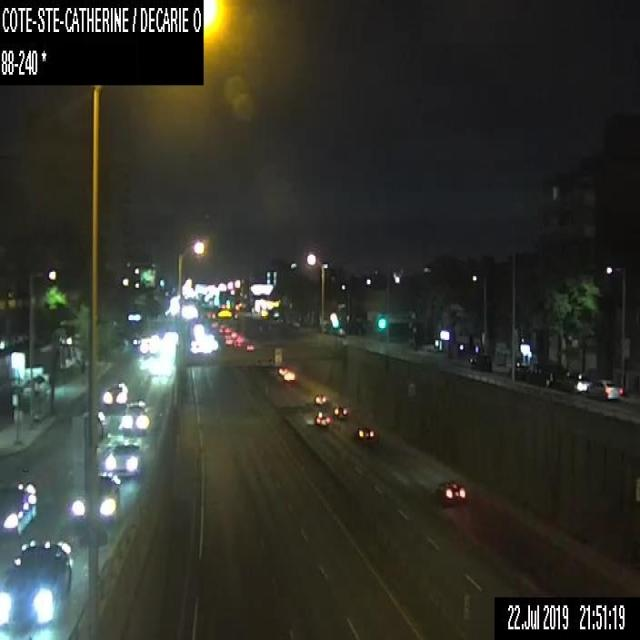vehicle: (0, 543, 74, 625), (72, 472, 120, 526), (0, 484, 36, 534), (101, 442, 140, 474), (120, 400, 149, 432), (434, 477, 464, 503), (586, 380, 622, 400), (103, 381, 127, 404), (139, 335, 159, 352), (356, 424, 374, 439), (314, 410, 330, 424), (333, 404, 348, 417), (314, 393, 327, 404), (283, 371, 294, 380), (277, 367, 287, 374), (246, 343, 254, 350)
